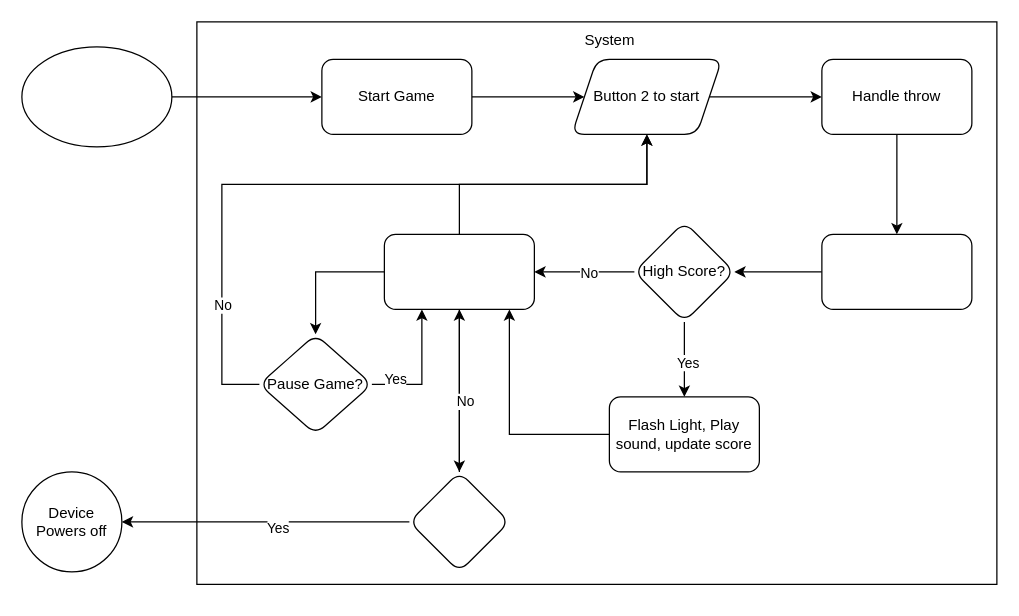
The diagram is 1019 pixels wide and 616 high, and some of its shapes have lost their labels. The box of each missing label's shape, as (x1, y1, x2, y2) in pixels:
Display the force: (821, 233, 972, 309)
End Game?: (408, 471, 509, 572)
Power on device: (21, 46, 172, 147)
Waiting state: (383, 233, 534, 309)
